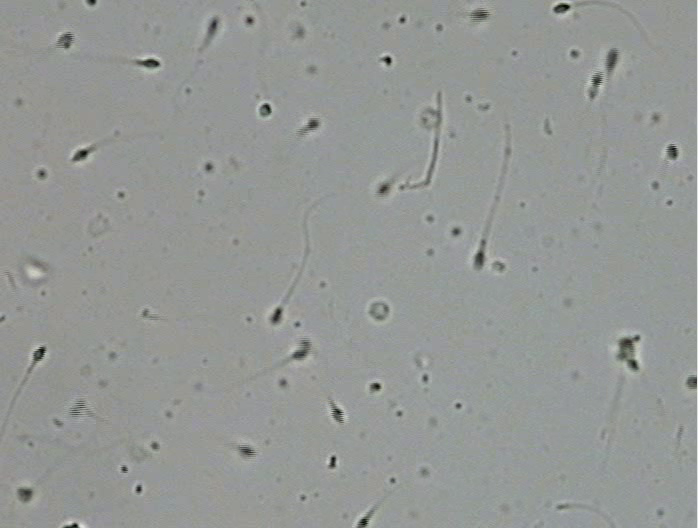Impurity: (368, 301, 389, 321)
S: (616, 336, 635, 360), (605, 48, 619, 72), (56, 31, 74, 49), (69, 400, 86, 417), (237, 444, 256, 459), (331, 405, 345, 425), (470, 8, 490, 22), (17, 487, 33, 503), (304, 118, 320, 133), (32, 345, 46, 362), (666, 143, 679, 161), (72, 149, 89, 162), (138, 58, 160, 68), (207, 18, 219, 36), (474, 251, 485, 270), (590, 71, 603, 87), (270, 307, 282, 324), (259, 103, 272, 117), (626, 358, 640, 371), (298, 338, 312, 351), (553, 3, 571, 13), (376, 183, 390, 195), (291, 350, 307, 360), (686, 375, 697, 389), (356, 517, 369, 528), (85, 1, 97, 6)
